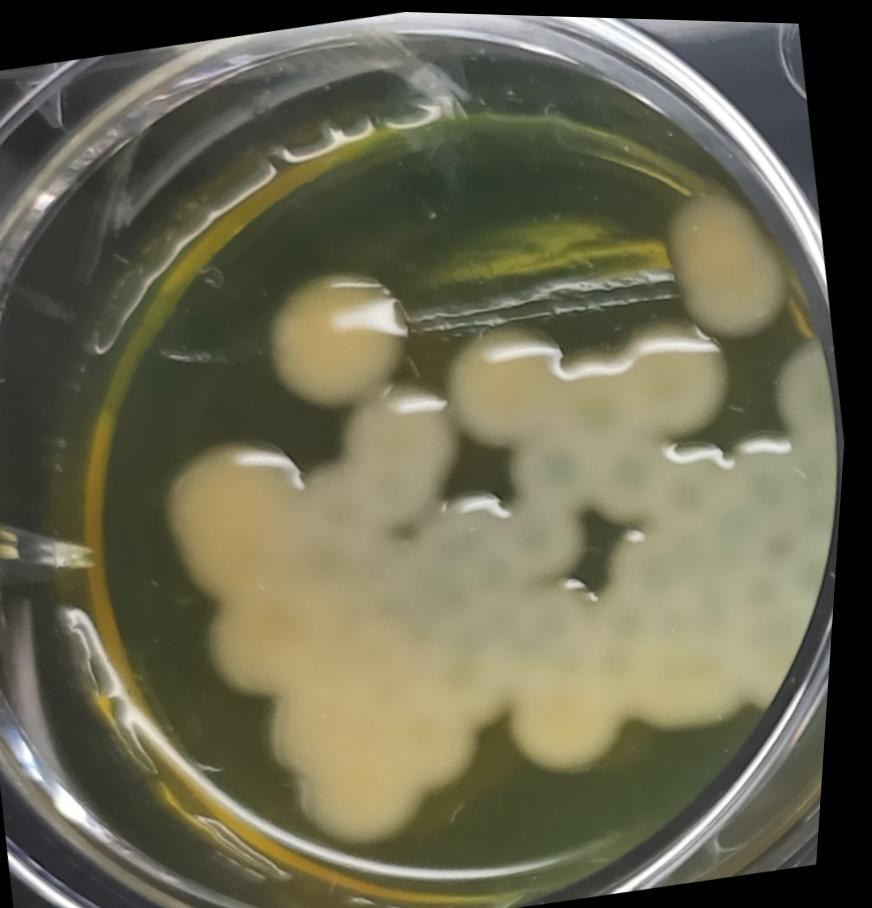valgino: (182, 555, 534, 892), (589, 412, 851, 750), (248, 235, 445, 424), (487, 562, 644, 793), (145, 424, 331, 617), (648, 171, 808, 351), (322, 377, 493, 539), (431, 305, 591, 461), (601, 298, 749, 444), (493, 401, 618, 515), (490, 476, 602, 586)
